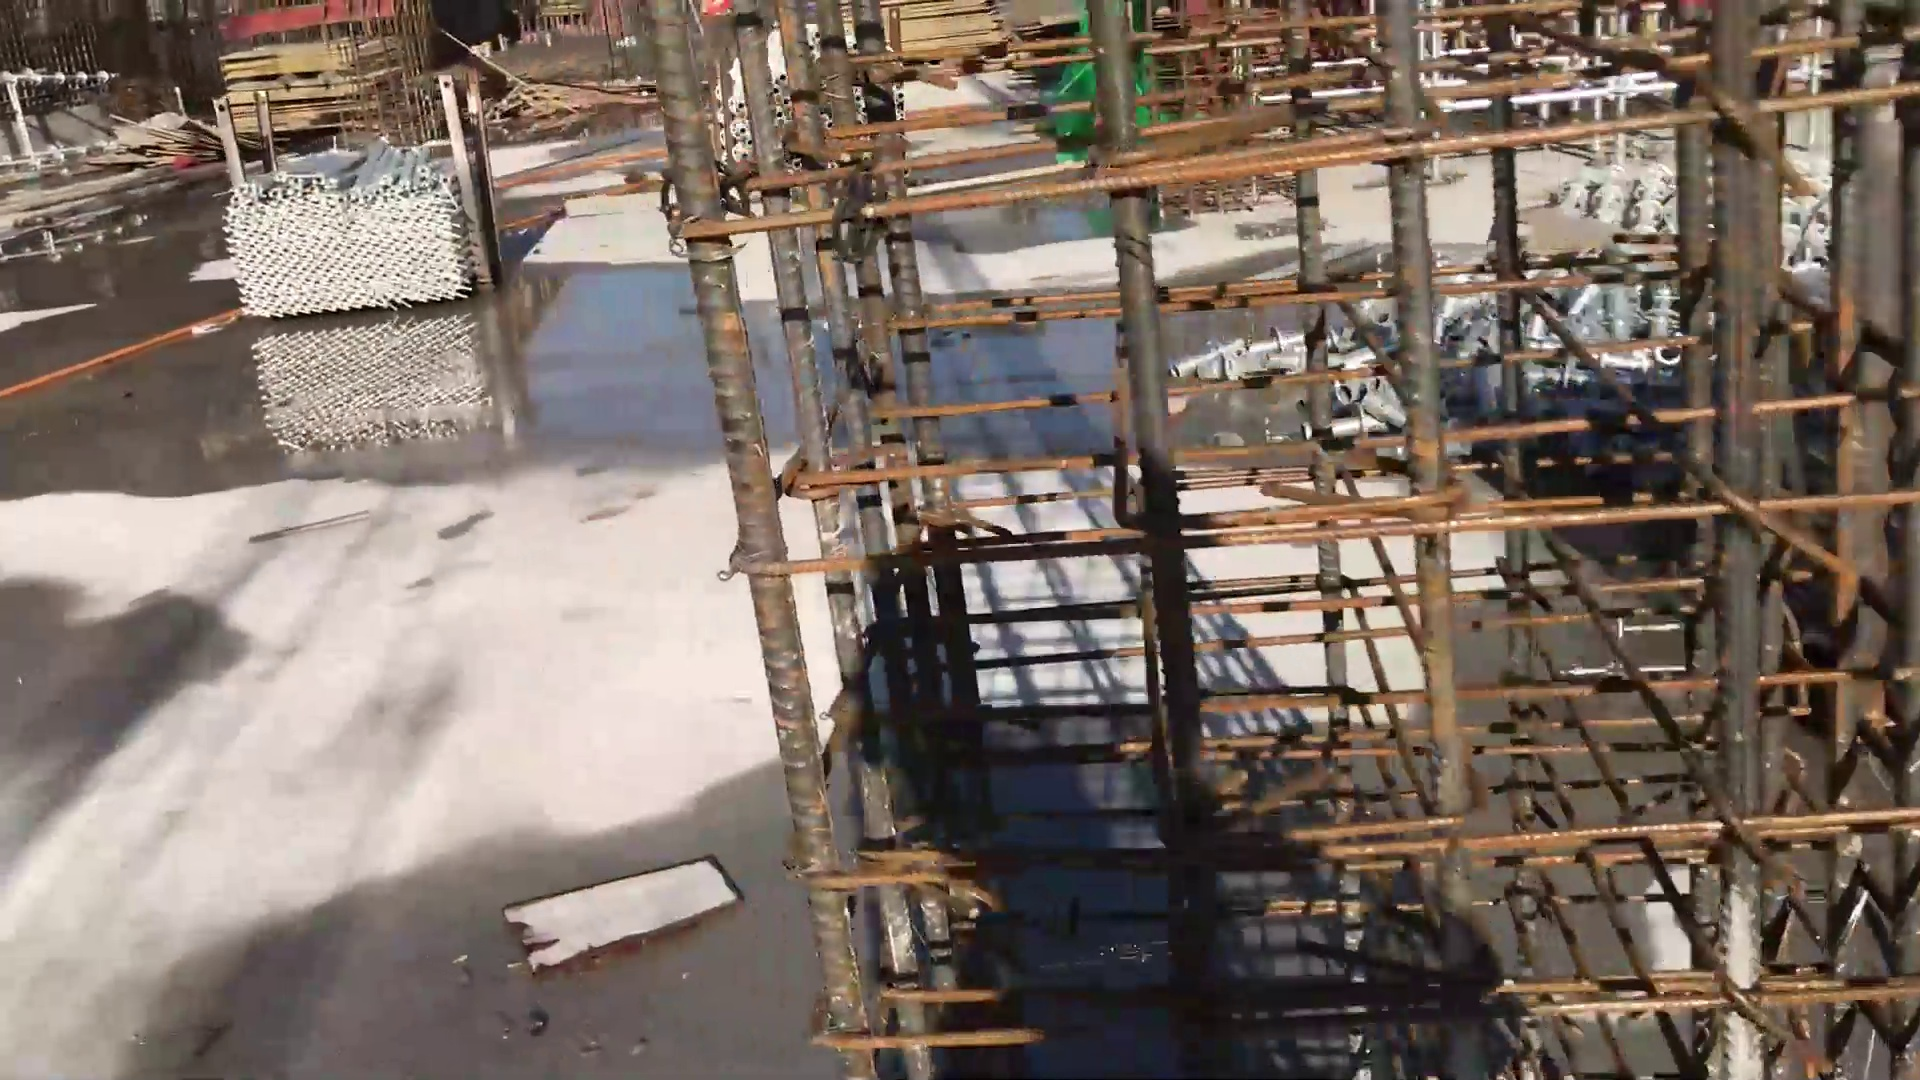board: (210, 33, 361, 132)
scaffold: (219, 138, 506, 314)
